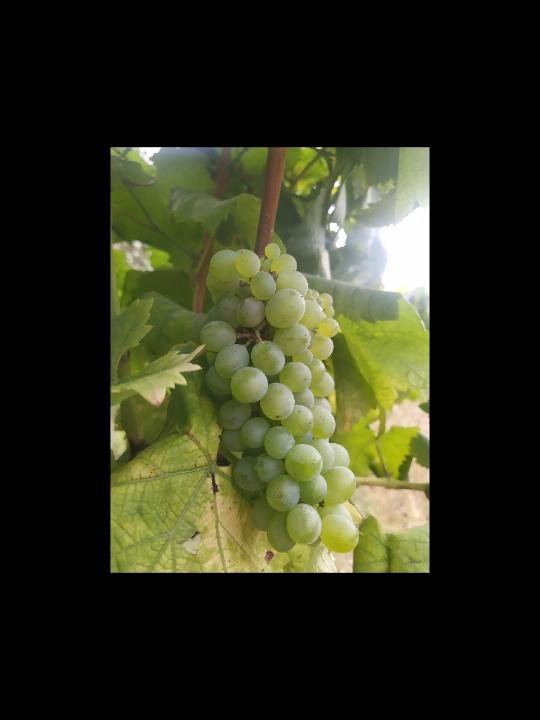grape: (198, 242, 363, 555)
